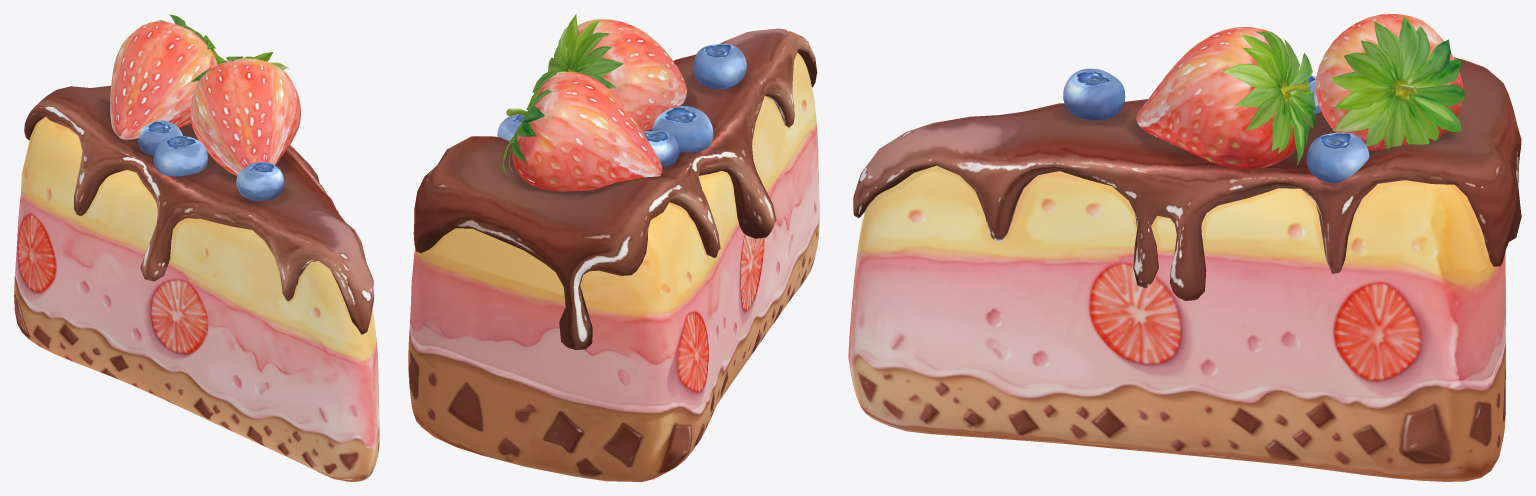
The model's file is biryani.glb.
The picture shows the model from 3 angles, left to right: view 1: azimuth 30°, elevation 25°; view 2: azimuth 150°, elevation 25°; view 3: azimuth 270°, elevation 25°; orthographic projection. The views are drawn at different scales.
Parts seen in each view (by area): view 1: cake001, frosting001, berries001, strawberry001; view 2: cake001, frosting001, berries001, strawberry001, leaves003, leaves004, blueberry001; view 3: cake001, frosting001, strawberry001, leaves004, berries001, leaves003, blueberry001.
Part boxes in pixels (left/top/right/bottom): cake001: left=14, top=116, right=379, bottom=481; frosting001: left=24, top=60, right=373, bottom=334; berries001: left=110, top=21, right=284, bottom=201; strawberry001: left=190, top=58, right=300, bottom=175; cake001: left=408, top=53, right=819, bottom=481; frosting001: left=413, top=28, right=817, bottom=349; berries001: left=512, top=44, right=746, bottom=191; strawberry001: left=577, top=19, right=686, bottom=131; leaves003: left=532, top=14, right=623, bottom=92; leaves004: left=502, top=68, right=564, bottom=174; blueberry001: left=497, top=114, right=524, bottom=142; cake001: left=848, top=165, right=1505, bottom=481; frosting001: left=853, top=57, right=1521, bottom=300; strawberry001: left=1136, top=27, right=1310, bottom=169; leaves004: left=1329, top=16, right=1465, bottom=148; berries001: left=1063, top=14, right=1462, bottom=150; leaves003: left=1221, top=31, right=1315, bottom=165; blueberry001: left=1306, top=132, right=1369, bottom=183.
Size of the model in its own units: 0.1417 by 0.1786 by 0.26.
Materials: 1 (1 with a texture image).
